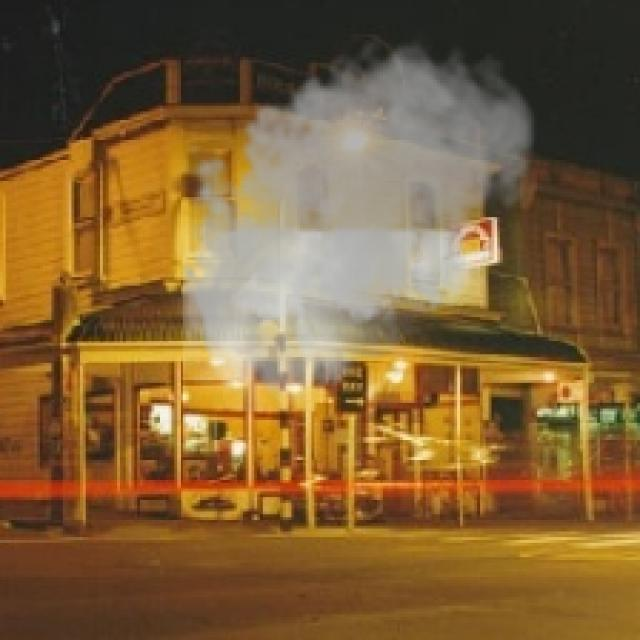Smoke: (168, 29, 543, 412)
